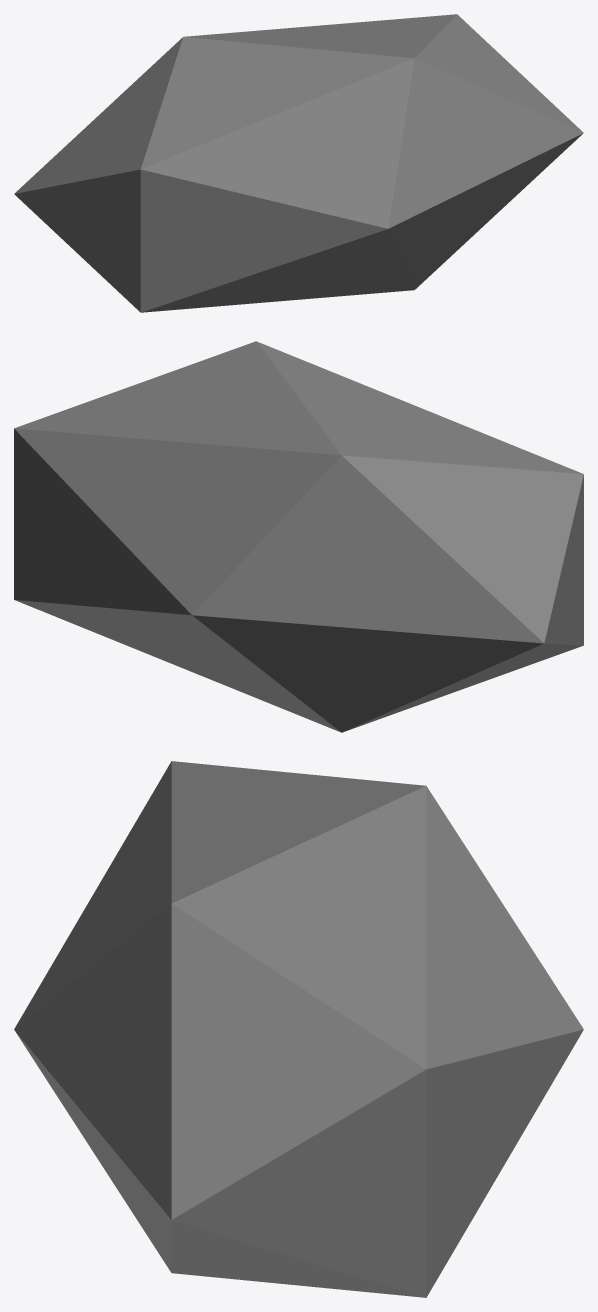
Rendered from Golem_Hip.fbx.
The picture shows the model from 3 angles, top to bottom: view 1: azimuth 30°, elevation 25°; view 2: azimuth 150°, elevation 25°; view 3: azimuth 270°, elevation 25°; orthographic projection. The views are drawn at different scales.
Visible parts, largest first — view 1: Hip; view 2: Hip; view 3: Hip.
Boxes of the visible parts, <box> form: Hip: <box>14,14,583,312</box>; Hip: <box>14,341,583,732</box>; Hip: <box>14,761,583,1297</box>.
Size of the model in its own units: 123 by 55.68 by 77.83.
Materials: 1 (1 with a texture image).
